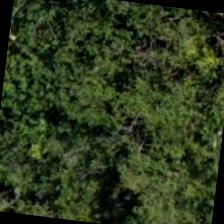Kelapa_Sawit: (66, 72, 166, 172)
